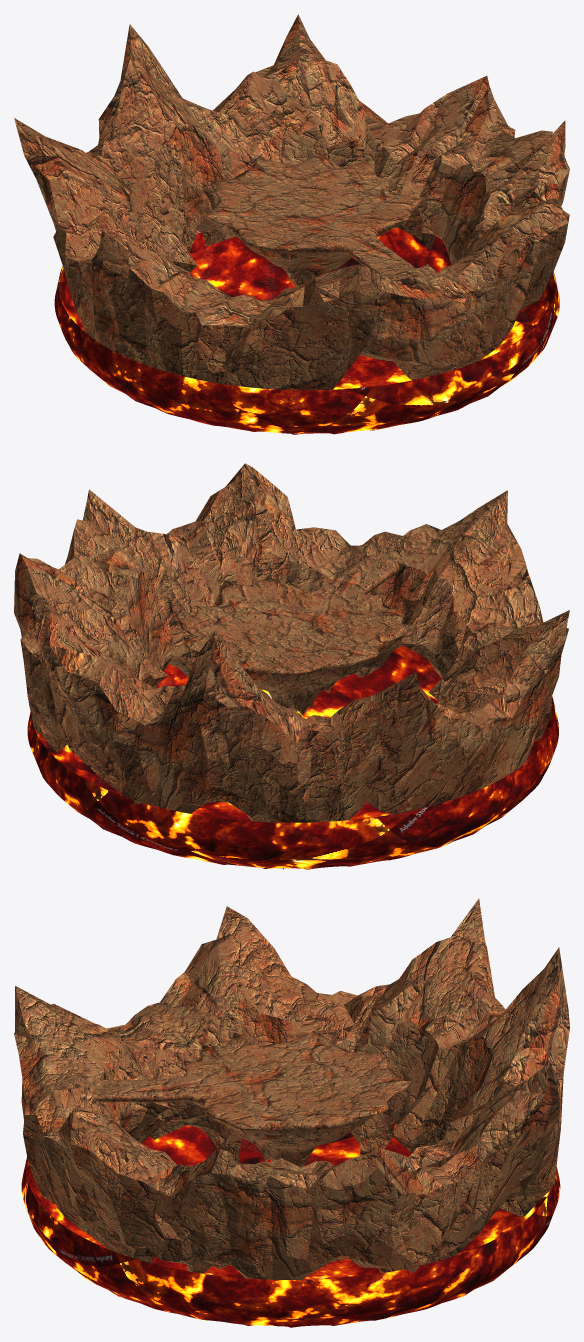
File: Hell arena.fbx
3 renders of one model, top to bottom at view 1: azimuth 30°, elevation 25°; view 2: azimuth 150°, elevation 25°; view 3: azimuth 270°, elevation 25°, orthographic. The views are drawn at different scales.
Visible parts, largest first — view 1: Circle, Circle.001, Plane; view 2: Circle, Circle.001, Plane; view 3: Circle, Circle.001, Plane.
Boxes of the visible parts, <box> form: Circle: <box>14,14,569,390</box>; Circle.001: <box>54,227,559,434</box>; Plane: <box>205,152,423,286</box>; Circle: <box>14,463,569,869</box>; Circle.001: <box>27,645,558,869</box>; Plane: <box>178,554,412,715</box>; Circle: <box>14,899,569,1279</box>; Circle.001: <box>21,1120,560,1327</box>; Plane: <box>91,1030,410,1167</box>.
Bounding box in the file's own units: 492 × 275 × 481.
